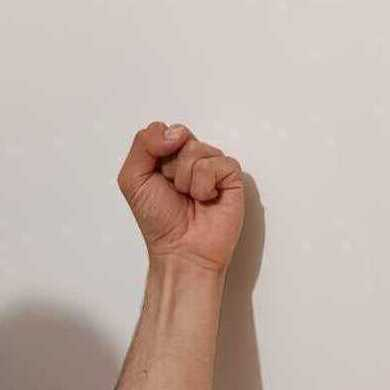S: (117, 121, 246, 272)
